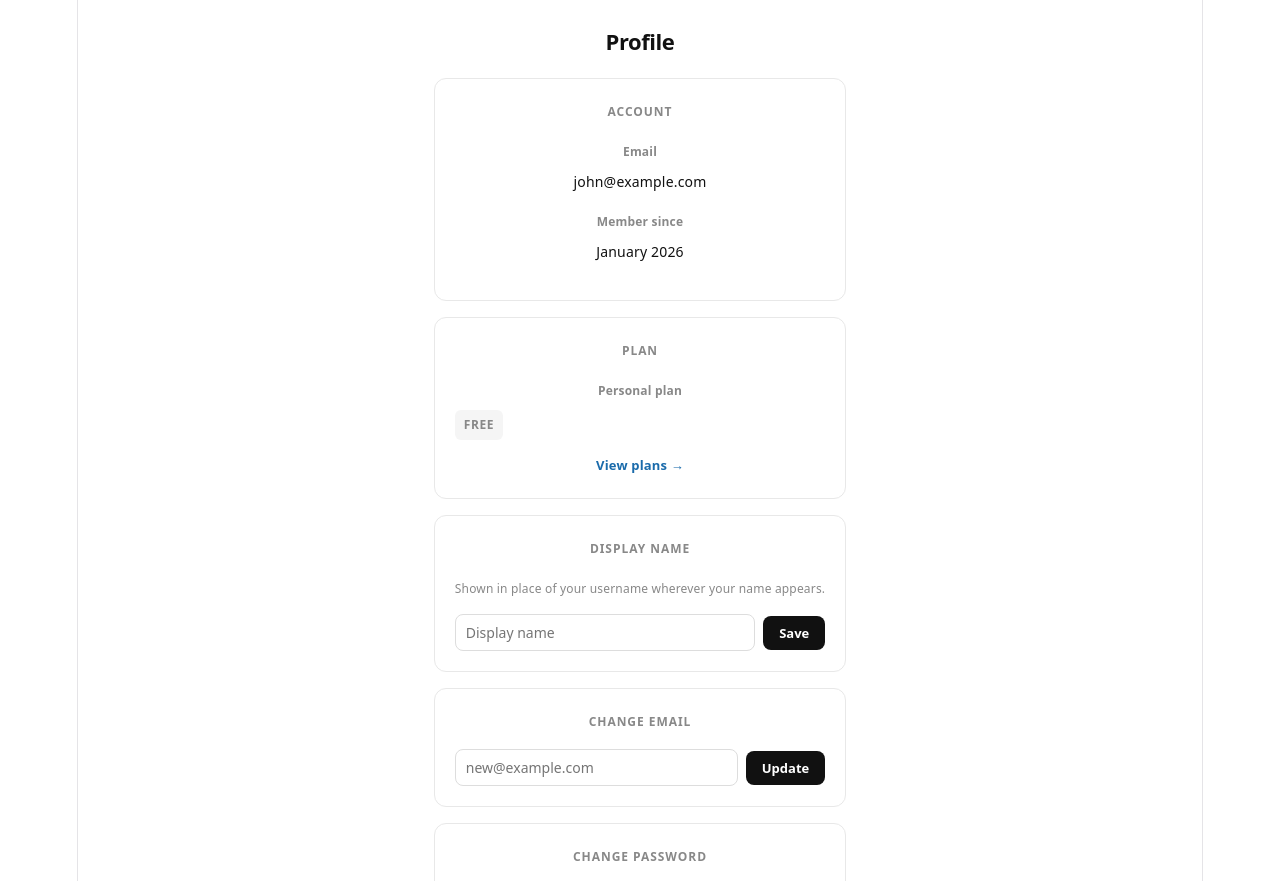
Test: Profile — change email › shows confirmation message after successful email update
In the field with placeholder "new@example.com": (596, 768) [455, 749, 738, 786], type "newemail@gmail.com"
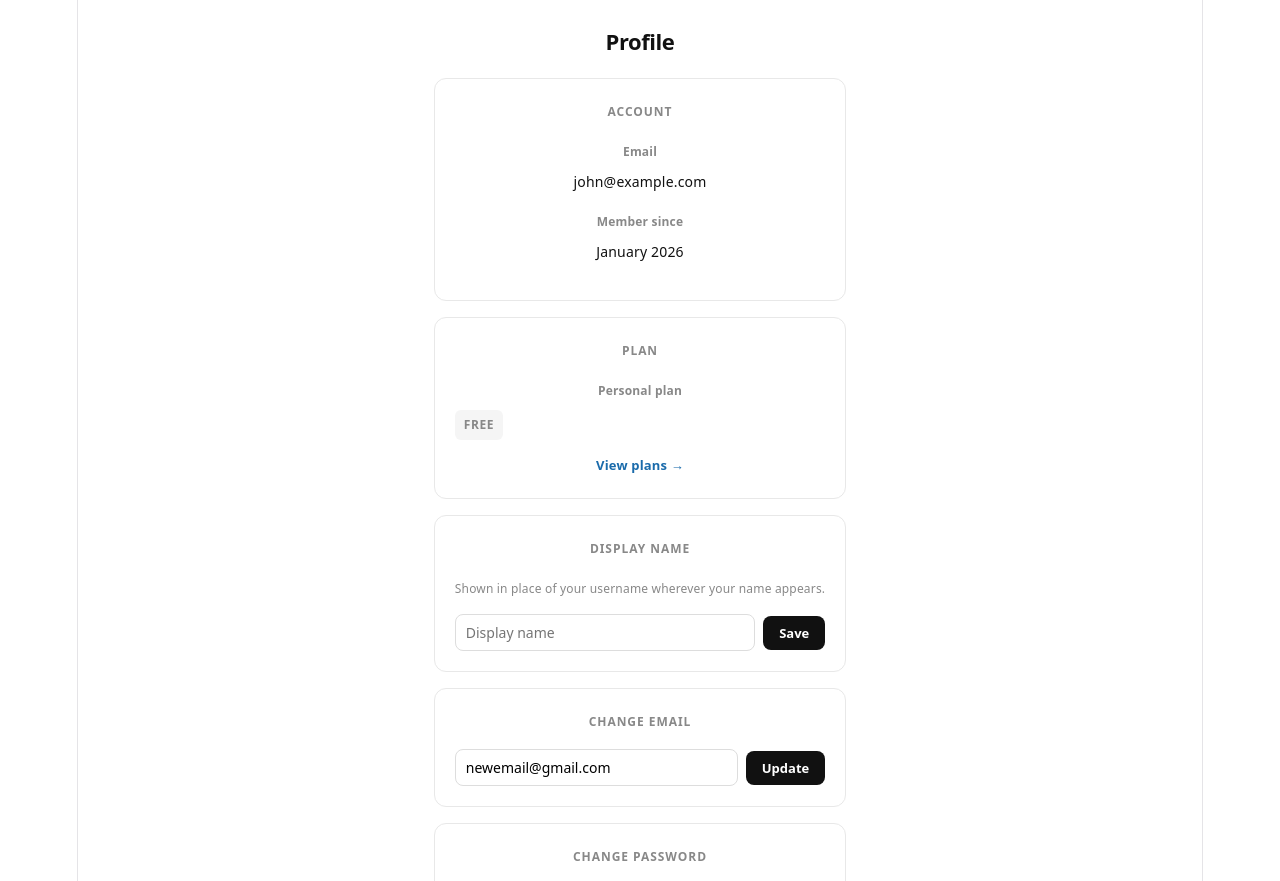
Click the button "Update": (786, 768) [746, 751, 825, 785]
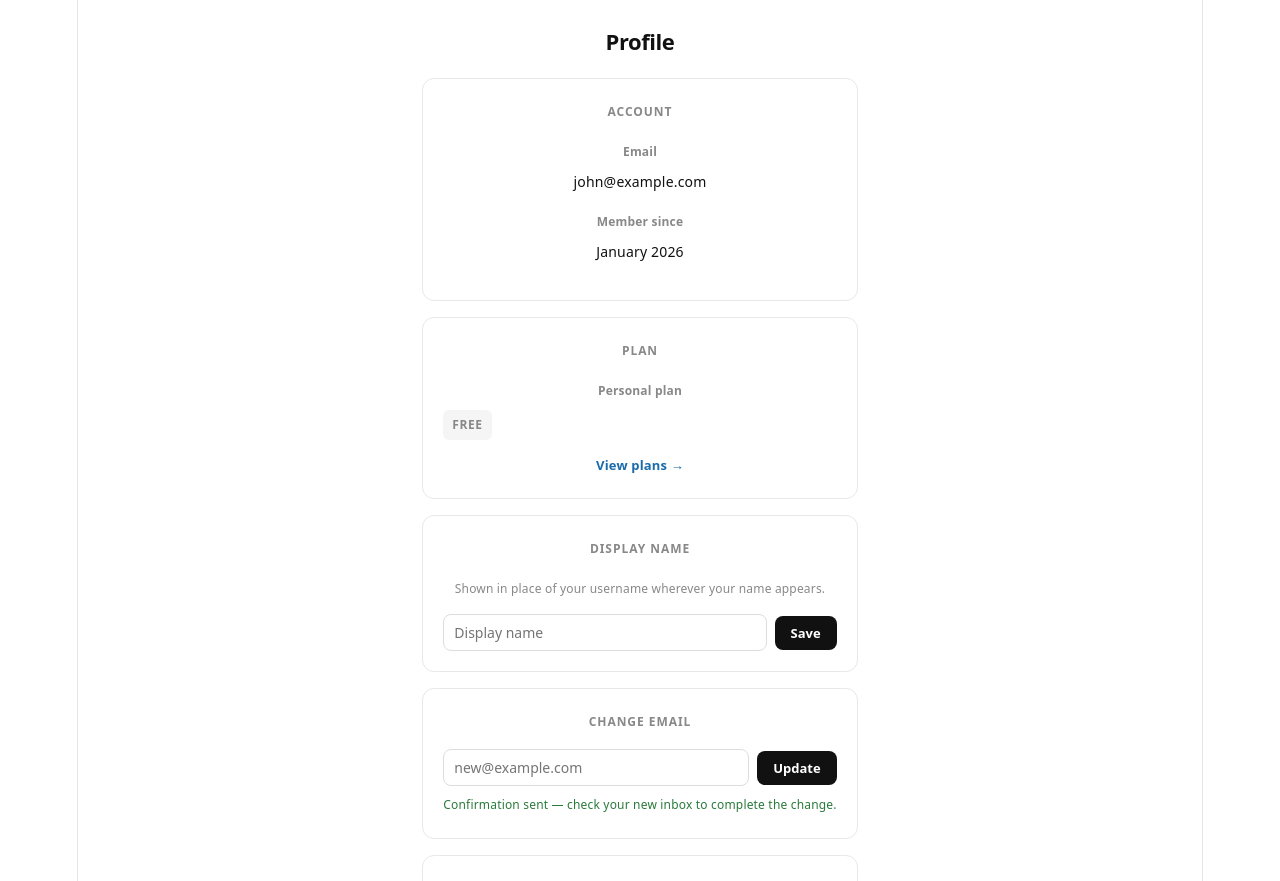
Result: the text "Confirmation sent" is shown at [443, 796, 837, 813]
